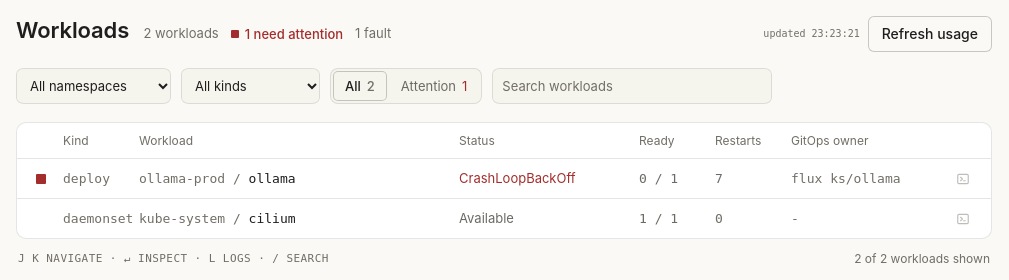
Test: WorkloadsView workspace template (redesign) › the kind filter lives in the view and narrows rows
Select "DaemonSets" in the 2nd dropdown named "Kind" at (250, 86), box [181,66,320,106]
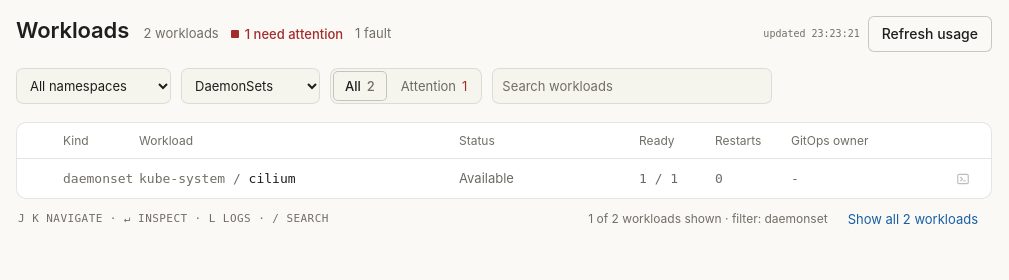
Expected: the text "cilium" is shown, [249,170,296,186]
Expected: the button "ollama" is gone
